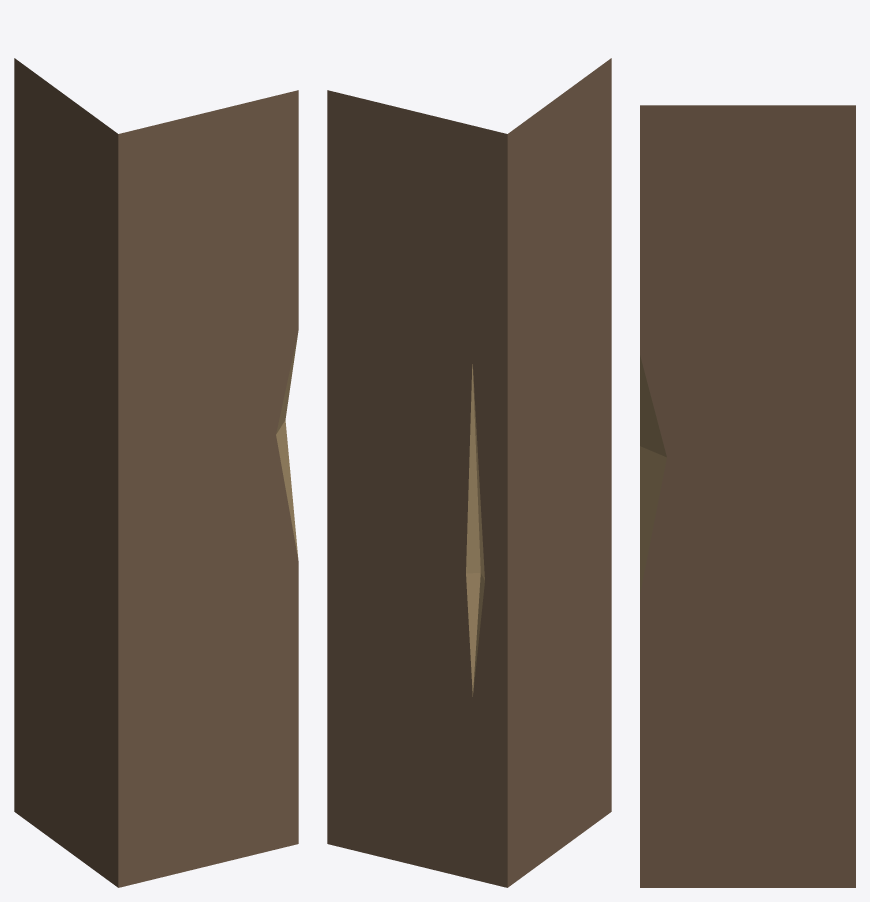
The model's file is Cave_Prop_Support_Wall_Pillar_1.glb.
3 views of the same model, side by side, from view 1: azimuth 30°, elevation 25°; view 2: azimuth 150°, elevation 25°; view 3: azimuth 270°, elevation 25° (orthographic). The views are drawn at different scales.
Parts seen in each view (by area): view 1: Cave_Prop_Support_Wall_Pillar_1; view 2: Cave_Prop_Support_Wall_Pillar_1; view 3: Cave_Prop_Support_Wall_Pillar_1.
Part boxes in pixels (bbox=[...]): Cave_Prop_Support_Wall_Pillar_1: bbox=[14, 58, 298, 887]; Cave_Prop_Support_Wall_Pillar_1: bbox=[327, 58, 611, 887]; Cave_Prop_Support_Wall_Pillar_1: bbox=[640, 105, 855, 887].
Bounding box in the file's own units: 0.25 × 1 × 0.25.
